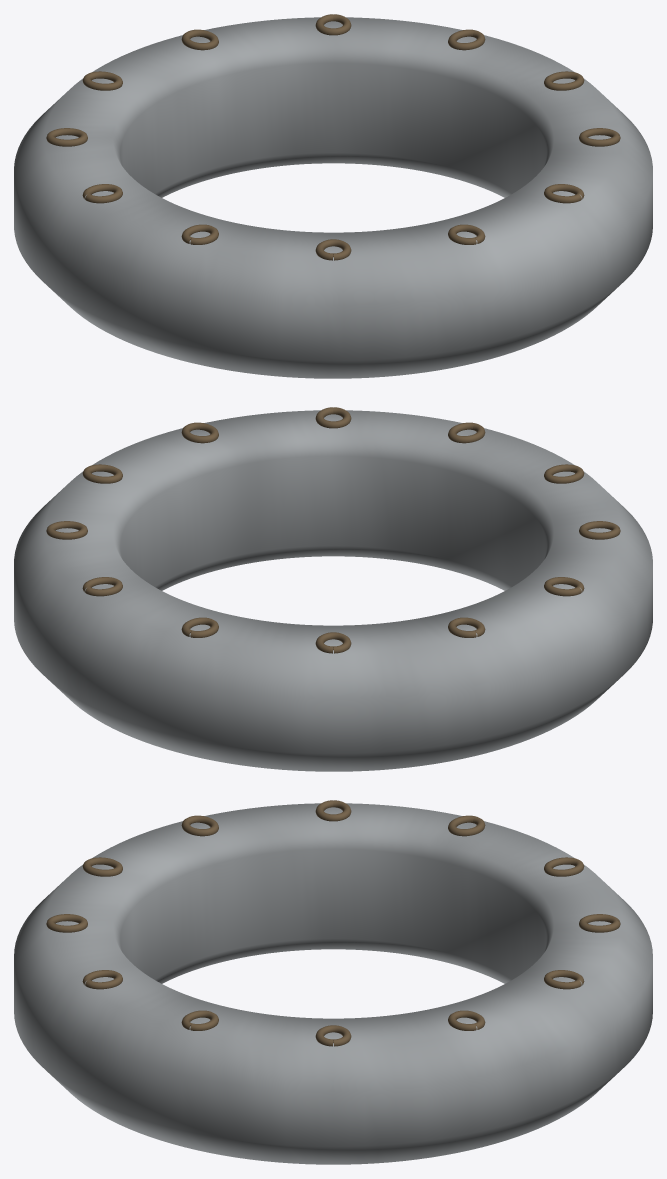
The model's file is running-ring.glb.
3 views of the same model, one above another, from view 1: azimuth 30°, elevation 25°; view 2: azimuth 150°, elevation 25°; view 3: azimuth 270°, elevation 25° (orthographic).
Visible parts, largest first — view 1: running-ring, ring_engraved_eye.005, ring_engraved_eye.011, ring_engraved_eye, ring_engraved_eye.004, ring_engraved_eye.006, ring_engraved_eye.010, ring_engraved_eye.001, ring_engraved_eye.003, ring_engraved_eye.007, ring_engraved_eye.009, ring_engraved_eye.002 (+1 smaller); view 2: running-ring, ring_engraved_eye.001, ring_engraved_eye.007, ring_engraved_eye, ring_engraved_eye.008, ring_engraved_eye.002, ring_engraved_eye.006, ring_engraved_eye.009, ring_engraved_eye.011, ring_engraved_eye.003, ring_engraved_eye.005, ring_engraved_eye.010 (+1 smaller); view 3: running-ring, ring_engraved_eye.003, ring_engraved_eye.009, ring_engraved_eye.004, ring_engraved_eye.008, ring_engraved_eye.002, ring_engraved_eye.010, ring_engraved_eye.005, ring_engraved_eye.007, ring_engraved_eye.001, ring_engraved_eye.011, ring_engraved_eye.006 (+1 smaller).
Part boxes in pixels (x1,y1,x2,y2): running-ring: (14, 17, 652, 378); ring_engraved_eye.005: (46, 128, 87, 146); ring_engraved_eye.011: (579, 128, 620, 146); ring_engraved_eye: (544, 71, 584, 90); ring_engraved_eye.004: (82, 71, 122, 90); ring_engraved_eye.006: (82, 184, 122, 203); ring_engraved_eye.010: (544, 184, 584, 203); ring_engraved_eye.001: (448, 29, 485, 50); ring_engraved_eye.003: (181, 29, 218, 50); ring_engraved_eye.007: (181, 224, 218, 244); ring_engraved_eye.009: (448, 224, 485, 244); ring_engraved_eye.002: (315, 14, 351, 35); running-ring: (14, 410, 652, 771); ring_engraved_eye.001: (46, 521, 87, 539); ring_engraved_eye.007: (579, 521, 620, 539); ring_engraved_eye: (82, 464, 122, 483); ring_engraved_eye.008: (544, 464, 584, 483); ring_engraved_eye.002: (82, 577, 122, 596); ring_engraved_eye.006: (544, 577, 584, 596); ring_engraved_eye.009: (448, 422, 485, 443); ring_engraved_eye.011: (181, 422, 218, 443); ring_engraved_eye.003: (181, 617, 218, 637); ring_engraved_eye.005: (448, 617, 485, 637); ring_engraved_eye.010: (315, 407, 351, 428); running-ring: (14, 803, 652, 1164); ring_engraved_eye.003: (579, 914, 620, 932); ring_engraved_eye.009: (46, 914, 87, 932); ring_engraved_eye.004: (544, 857, 584, 876); ring_engraved_eye.008: (82, 857, 122, 876); ring_engraved_eye.002: (544, 970, 584, 989); ring_engraved_eye.010: (82, 970, 122, 989); ring_engraved_eye.005: (448, 815, 485, 836); ring_engraved_eye.007: (181, 815, 218, 836); ring_engraved_eye.001: (448, 1010, 485, 1030); ring_engraved_eye.011: (181, 1010, 218, 1030); ring_engraved_eye.006: (315, 800, 351, 821).
Size of the model in its own units: 0.0084 by 0.00177 by 0.0084.
